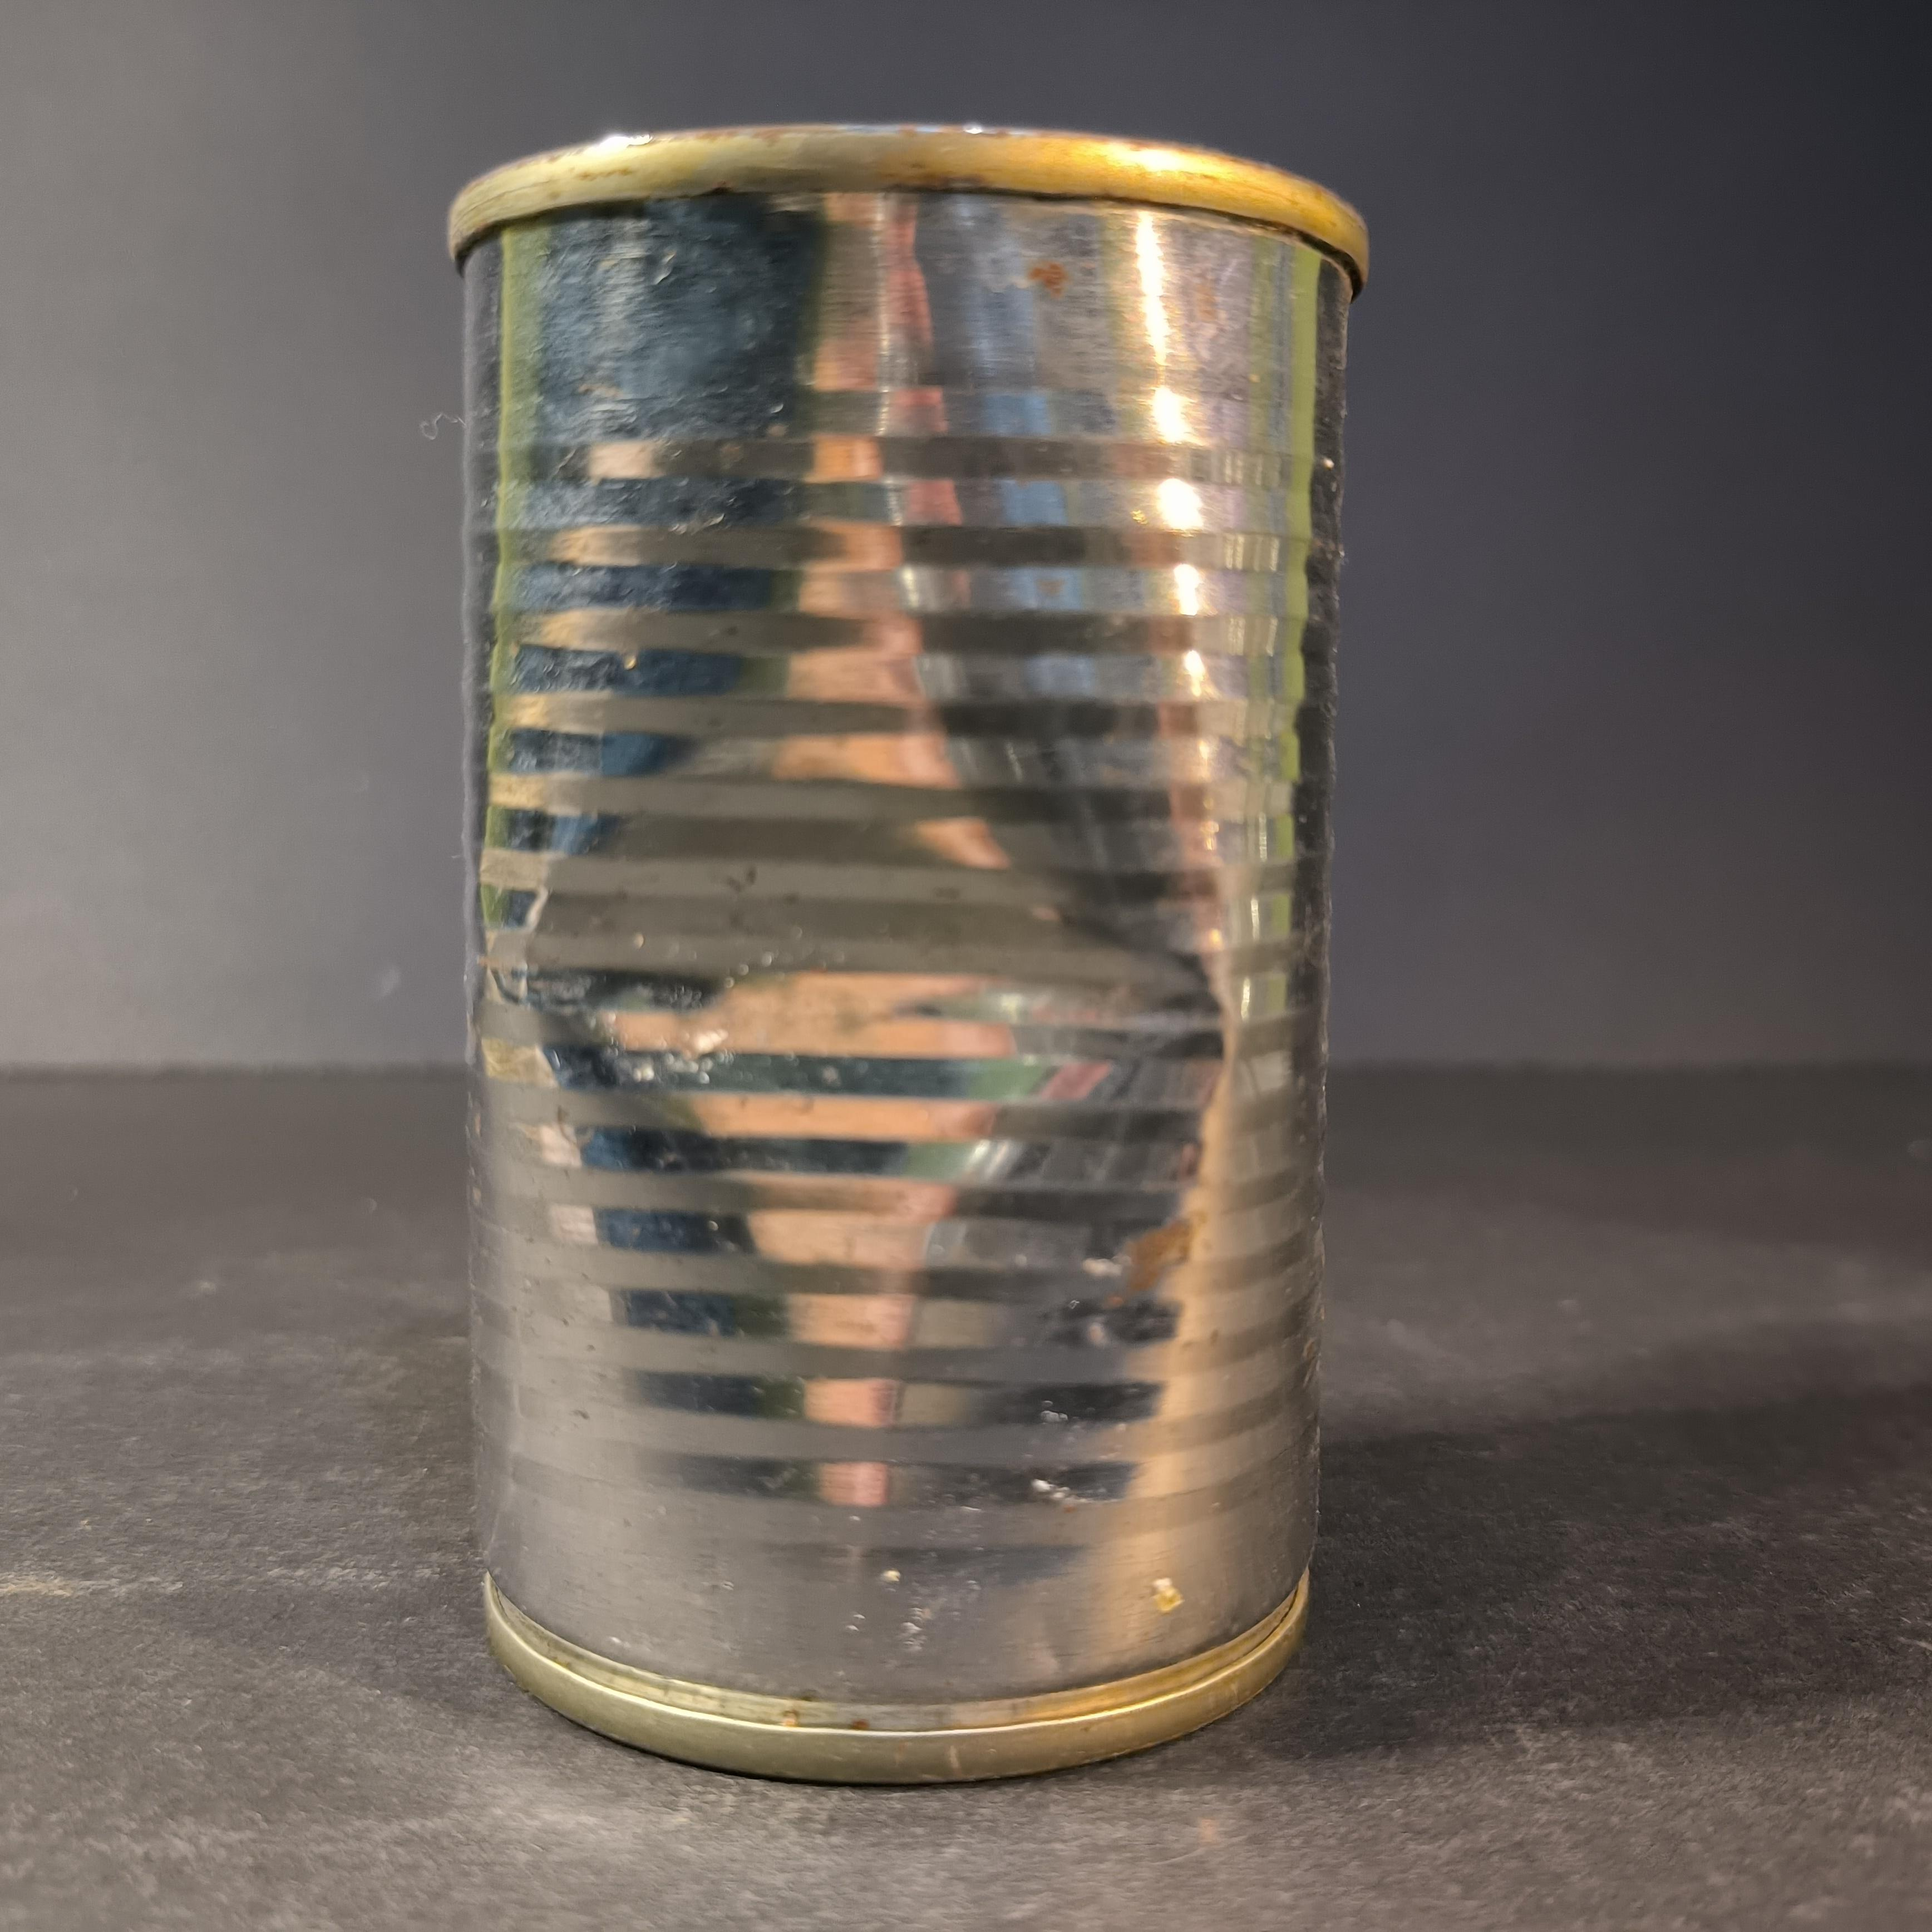Dented: (437, 103, 1380, 1775)
